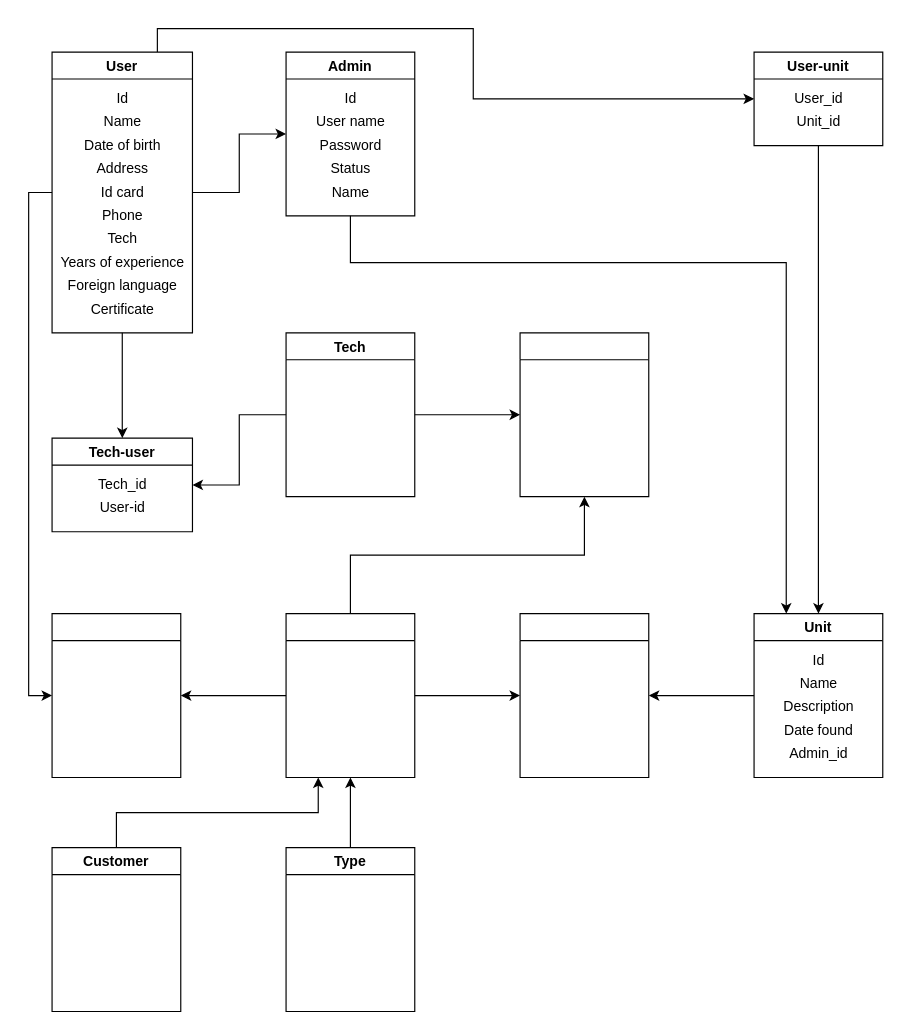
Some shapes in this 903 by 1032 pixel diagram are drawn without their labels. The centre of each missing label's shape, as x and y in pixels:
"Project" belongs at pixel 350 694.
"Tech-project" belongs at pixel 584 414.
"Unit-project" belongs at pixel 584 694.
"User-project" belongs at pixel 116 694.
